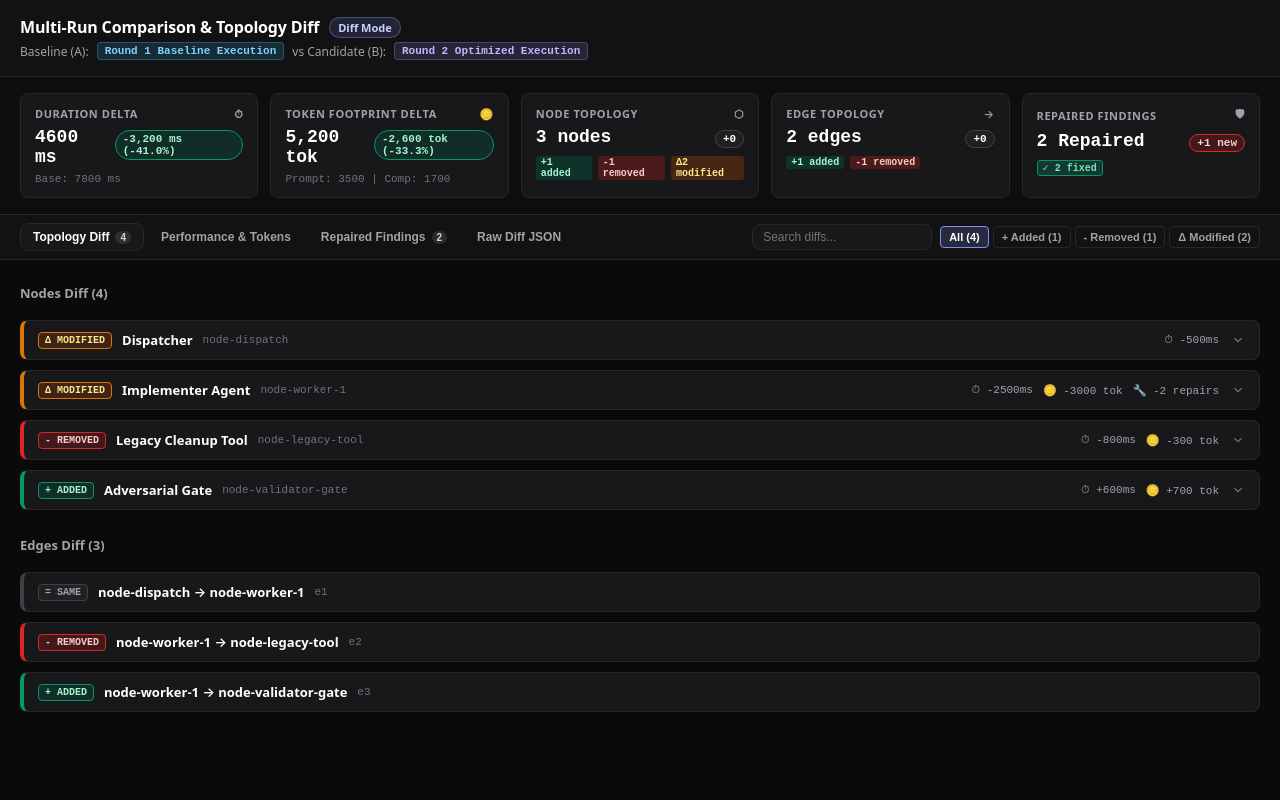
Scenario: ComparisonView Component › switches tabs and displays performance & tokens table
Click the tab with test id "tab-performance". click: (226,237)
box: [148,223,304,251]
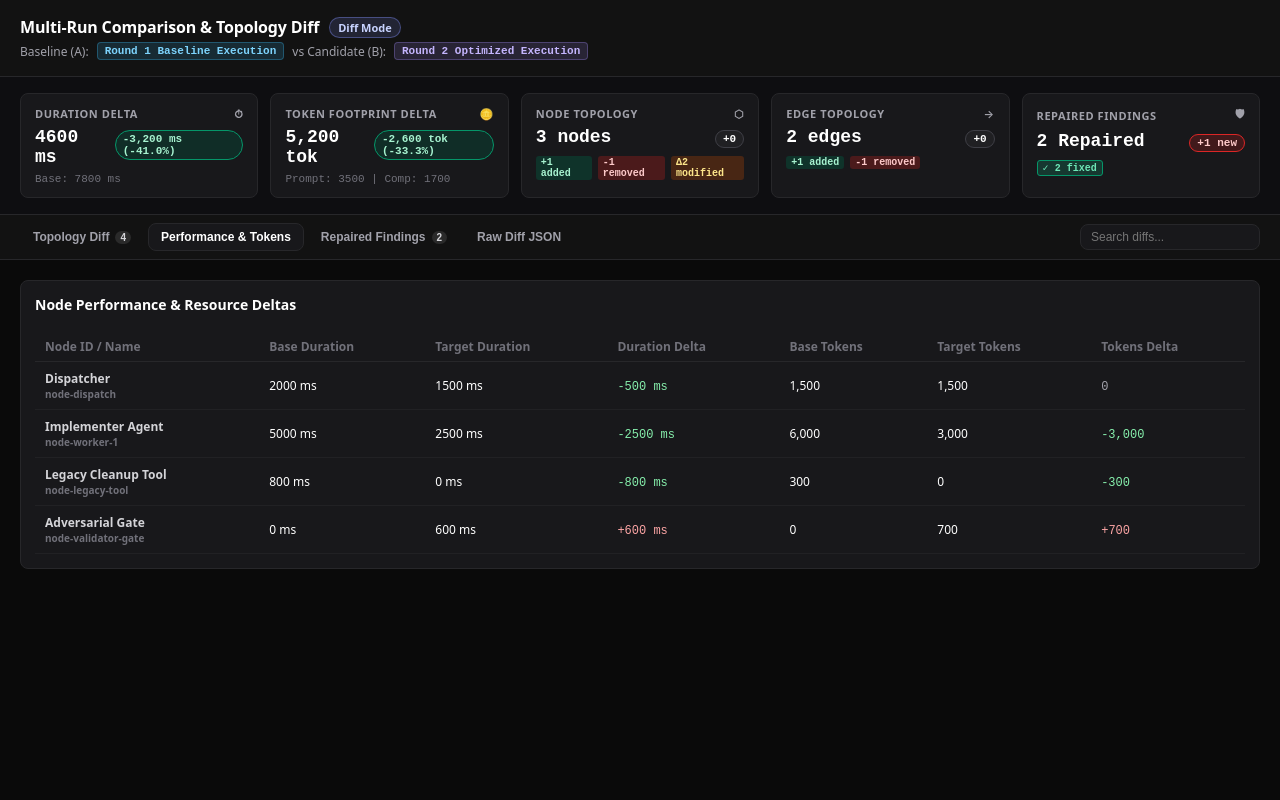
Now the element with test id "performance-diff-view" is shown, box [20,280,1260,569]
Now the row with test id "perf-row-node-worker-1" is shown, box [35,410,1245,458]
